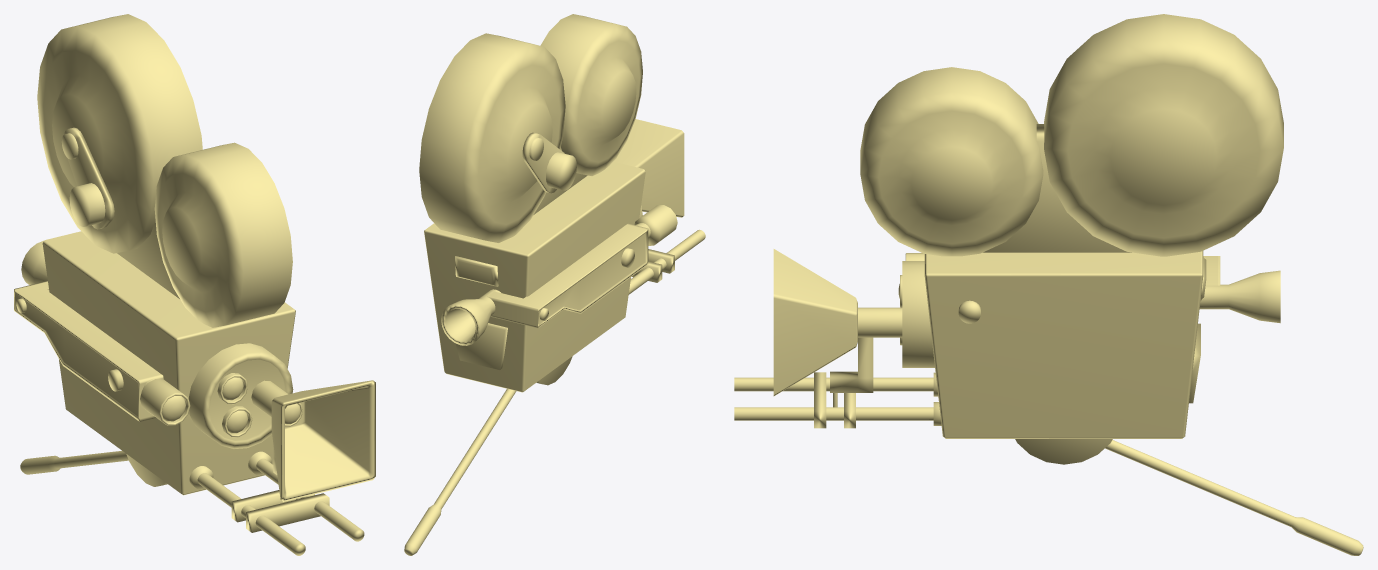
File: camera part.fbx
3 views of the same model, side by side, from view 1: azimuth 30°, elevation 25°; view 2: azimuth 150°, elevation 25°; view 3: azimuth 270°, elevation 25° (orthographic). The views are drawn at different scales.
Visible parts, largest first — view 1: pCube20, pCylinder59, pCylinder58, pCube3, pCube2, pCylinder3, pCylinder8, pCube21, pCube6, pCube11, pCylinder29, pCylinder18 (+5 smaller); view 2: pCylinder59, pCube20, pCylinder58, pCube2, pCube3, pCylinder29, pCylinder27, pCube17, pCylinder41, pCube21, pCylinder18, pCube18 (+1 smaller); view 3: pCube20, pCylinder59, pCylinder58, pCube3, pCylinder8, pCube11, pCylinder29, pCylinder3, pCylinder27, pCylinder24, pCube10, pCylinder62.
Boxes of the visible parts, <box> form: pCube20: <box>42,231,295,495</box>; pCylinder59: <box>37,14,202,253</box>; pCylinder58: <box>154,142,292,327</box>; pCube3: <box>271,380,375,501</box>; pCube2: <box>14,281,163,422</box>; pCylinder3: <box>188,343,293,448</box>; pCylinder8: <box>189,451,364,555</box>; pCube21: <box>63,127,114,229</box>; pCube6: <box>246,493,329,532</box>; pCube11: <box>117,221,179,298</box>; pCylinder29: <box>20,451,128,474</box>; pCylinder18: <box>69,183,105,226</box>; pCylinder59: <box>419,33,565,242</box>; pCube20: <box>424,161,645,392</box>; pCylinder58: <box>540,14,642,175</box>; pCube2: <box>487,223,648,328</box>; pCube3: <box>613,119,684,217</box>; pCylinder29: <box>404,389,516,555</box>; pCylinder27: <box>441,289,500,345</box>; pCube17: <box>455,323,507,369</box>; pCylinder41: <box>634,205,677,245</box>; pCube21: <box>522,132,564,193</box>; pCylinder18: <box>546,152,576,190</box>; pCube18: <box>455,256,498,286</box>; pCube20: <box>924,251,1203,438</box>; pCylinder59: <box>1044,14,1283,256</box>; pCylinder58: <box>860,67,1043,256</box>; pCube3: <box>773,249,857,396</box>; pCylinder8: <box>734,372,941,425</box>; pCube11: <box>983,124,1131,252</box>; pCylinder29: <box>1105,440,1363,555</box>; pCylinder3: <box>902,261,934,367</box>; pCylinder27: <box>1199,270,1280,323</box>; pCylinder24: <box>1015,439,1112,464</box>; pCube10: <box>830,337,873,392</box>; pCylinder62: <box>858,307,902,337</box>.
Size of the model in its own units: 26.01 by 83.8 by 90.37.
